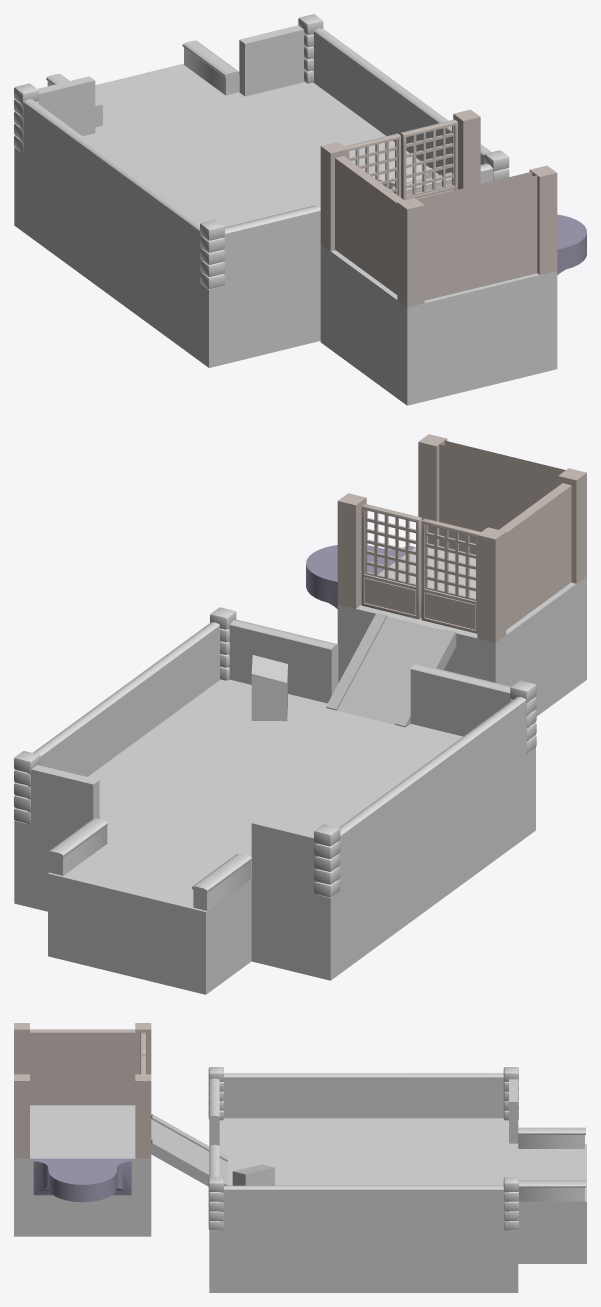
File: TutorialMap.fbx
The picture shows the model from 3 angles, top to bottom: view 1: azimuth 30°, elevation 25°; view 2: azimuth 150°, elevation 25°; view 3: azimuth 270°, elevation 25°; orthographic projection. The views are drawn at different scales.
Parts seen in each view (by area): view 1: mainFloor, utari.009, spawn, wall.002, Cube, wall, wall.001, rv, Cube.004, portal, R, R.001 (+3 smaller); view 2: mainFloor, utari.009, rv, spawn, Cube, wall.001, Cube.001, wall.002, wall, skillPad, R, portal (+5 smaller); view 3: mainFloor, utari.009, spawn, wall, rv, Cube, portal, Cube.001, R, R.001, Cube.005, Cube.006 (+3 smaller).
Part boxes in pixels (x1=…): mainFloor: x1=14, y1=82, x2=438, y2=367; utari.009: x1=20, y1=25, x2=494, y2=285; spawn: x1=320, y1=244, x2=557, y2=405; wall.002: x1=417, y1=171, x2=537, y2=300; Cube: x1=320, y1=109, x2=557, y2=307; wall: x1=335, y1=156, x2=403, y2=294; wall.001: x1=345, y1=119, x2=457, y2=200; rv: x1=95, y1=63, x2=225, y2=125; Cube.004: x1=200, y1=219, x2=224, y2=288; portal: x1=557, y1=214, x2=586, y2=274; R: x1=47, y1=47, x2=238, y2=127; R.001: x1=46, y1=40, x2=239, y2=109; mainFloor: x1=14, y1=679, x2=535, y2=980; utari.009: x1=27, y1=619, x2=529, y2=894; rv: x1=48, y1=843, x2=251, y2=994; spawn: x1=337, y1=547, x2=586, y2=716; Cube: x1=337, y1=434, x2=586, y2=642; wall.001: x1=361, y1=504, x2=480, y2=633; Cube.001: x1=326, y1=612, x2=456, y2=727; wall.002: x1=439, y1=440, x2=565, y2=554; wall: x1=499, y1=483, x2=571, y2=629; skillPad: x1=251, y1=655, x2=287, y2=721; R: x1=49, y1=825, x2=251, y2=910; portal: x1=306, y1=545, x2=415, y2=608; mainFloor: x1=209, y1=1118, x2=518, y2=1292; utari.009: x1=209, y1=1073, x2=518, y2=1230; spawn: x1=14, y1=1105, x2=151, y2=1236; wall: x1=30, y1=1029, x2=135, y2=1105; rv: x1=518, y1=1143, x2=586, y2=1263; Cube: x1=14, y1=1023, x2=151, y2=1158; portal: x1=33, y1=1158, x2=131, y2=1202; Cube.001: x1=151, y1=1114, x2=228, y2=1186; R: x1=518, y1=1135, x2=584, y2=1201; R.001: x1=518, y1=1127, x2=585, y2=1187; Cube.005: x1=208, y1=1177, x2=223, y2=1230; Cube.006: x1=503, y1=1177, x2=518, y2=1230.
Size of the model in its own units: 1670 by 804 by 588.
